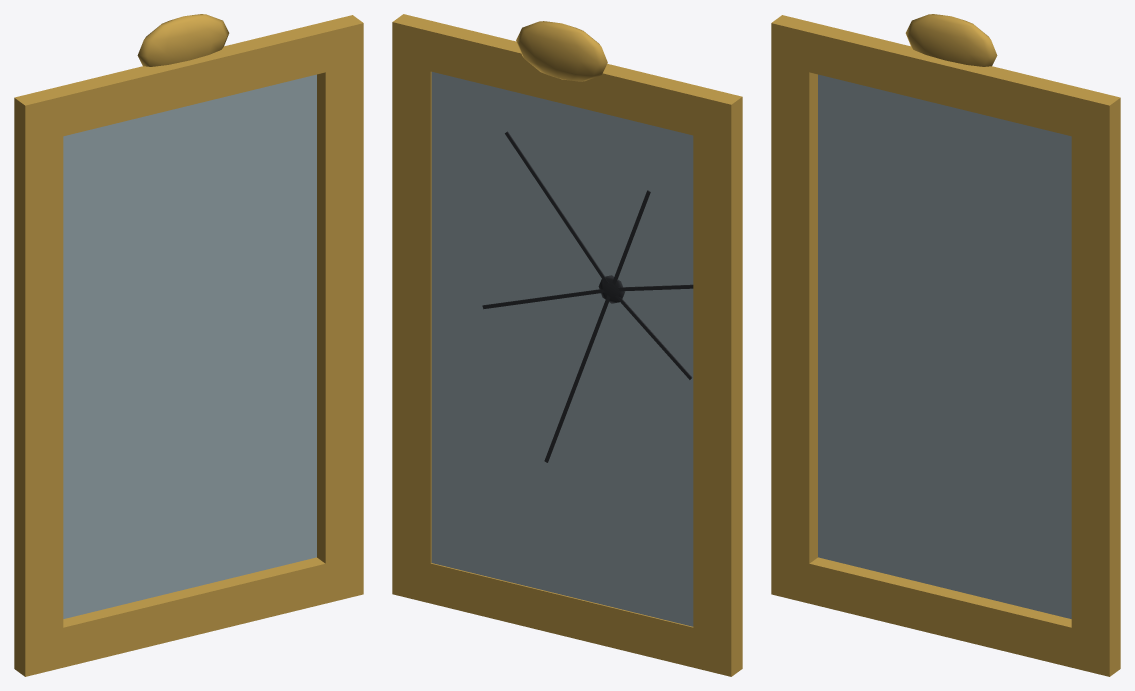
Rendered from SM_ENV_MolduraLRachada.fbx.
3 views of the same model, side by side, from view 1: azimuth 30°, elevation 25°; view 2: azimuth 150°, elevation 25°; view 3: azimuth 330°, elevation 25° (orthographic).
Parts seen in each view (by area): view 1: SM_ENV_MolduraLRachada; view 2: SM_ENV_MolduraLRachada; view 3: SM_ENV_MolduraLRachada.
Boxes of the visible parts, box(x1,y1,x2,y2) form: SM_ENV_MolduraLRachada: box(14, 14, 363, 676); SM_ENV_MolduraLRachada: box(392, 14, 742, 676); SM_ENV_MolduraLRachada: box(771, 14, 1120, 676).
Size of the model in its own units: 1.24 by 2.14 by 0.112.
